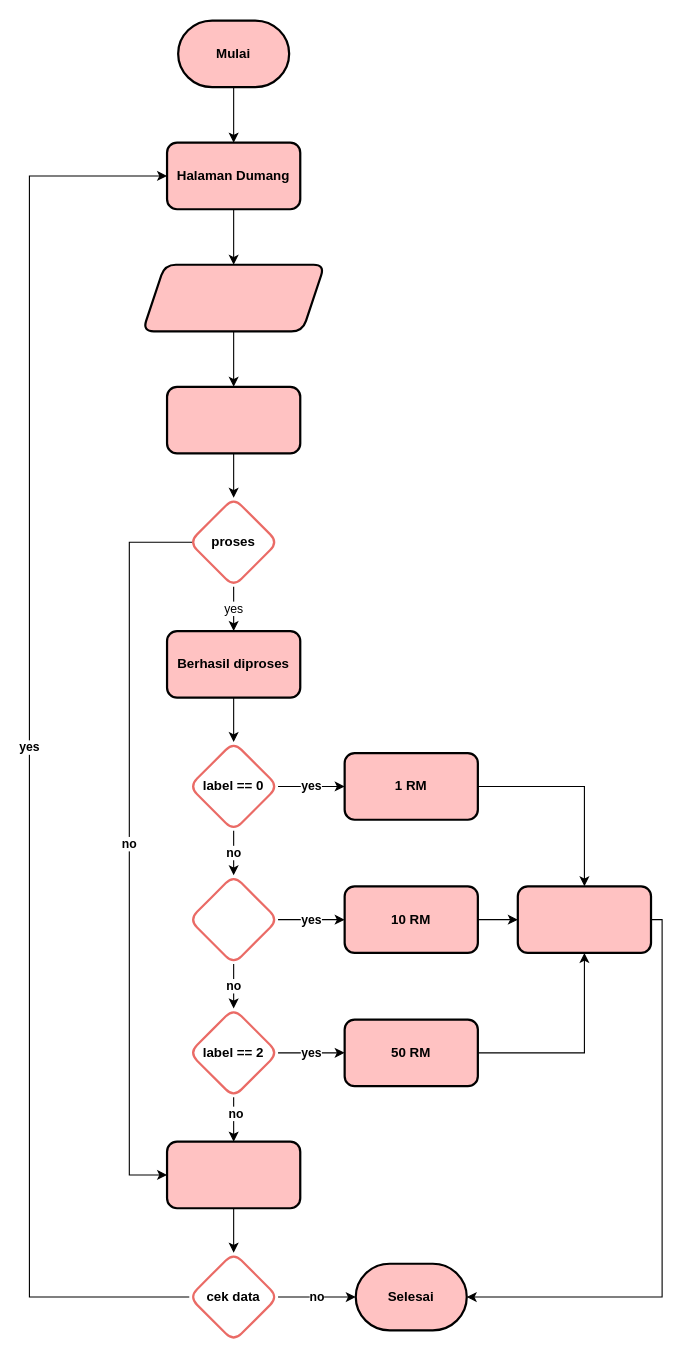
This 690x1361 diagram has some shape labels left out. Here are the shapes that lost their labels. From the top down, the box of each, then its label:
(141, 263, 325, 332): Masukkan data gambar pada sistem
(165, 385, 301, 454): Memproses gambar pada sistem
(188, 874, 279, 965): label == 1
(516, 885, 652, 953): Hasil Prediksi dan Penjelasan Prediksi
(165, 1140, 301, 1209): gagal menampilkan hasil prediksi
